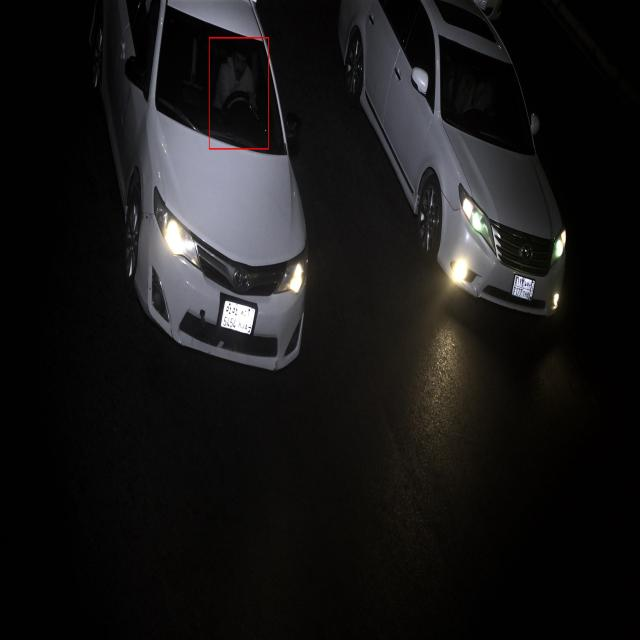windshield: (146, 4, 288, 170)
